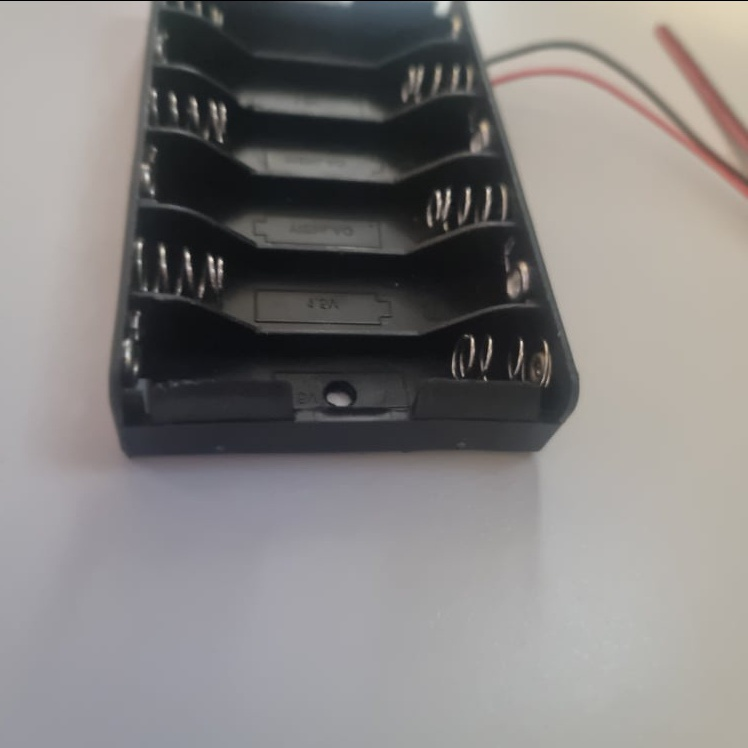BATTERY BOX: (108, 0, 579, 456)
